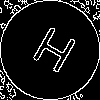H: (25, 25, 79, 83)
